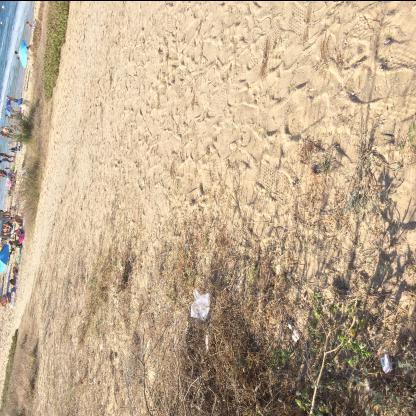plastik: (190, 288, 210, 320)
